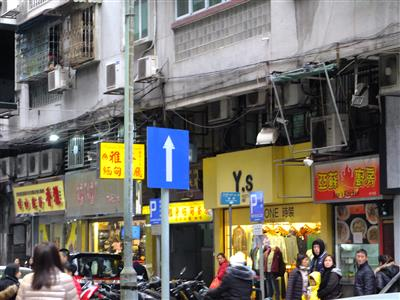oneway: (140, 120, 197, 195)
